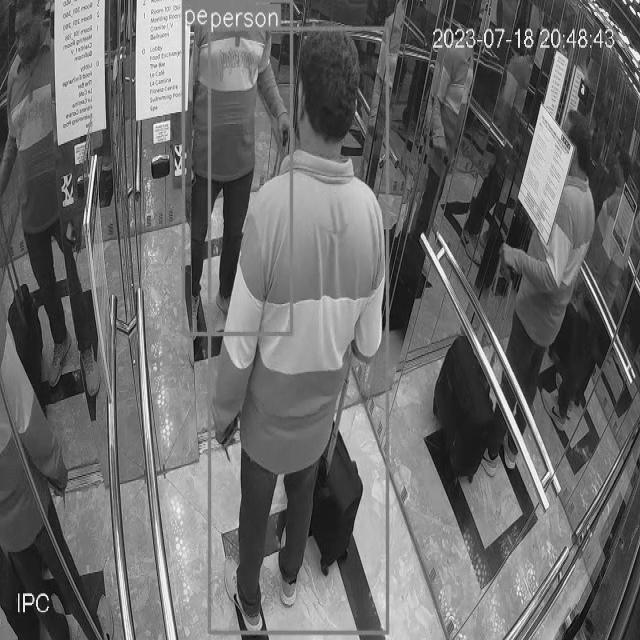person: (210, 25, 390, 636), (483, 135, 613, 503), (0, 0, 101, 409), (0, 271, 109, 638), (187, 6, 290, 335)
